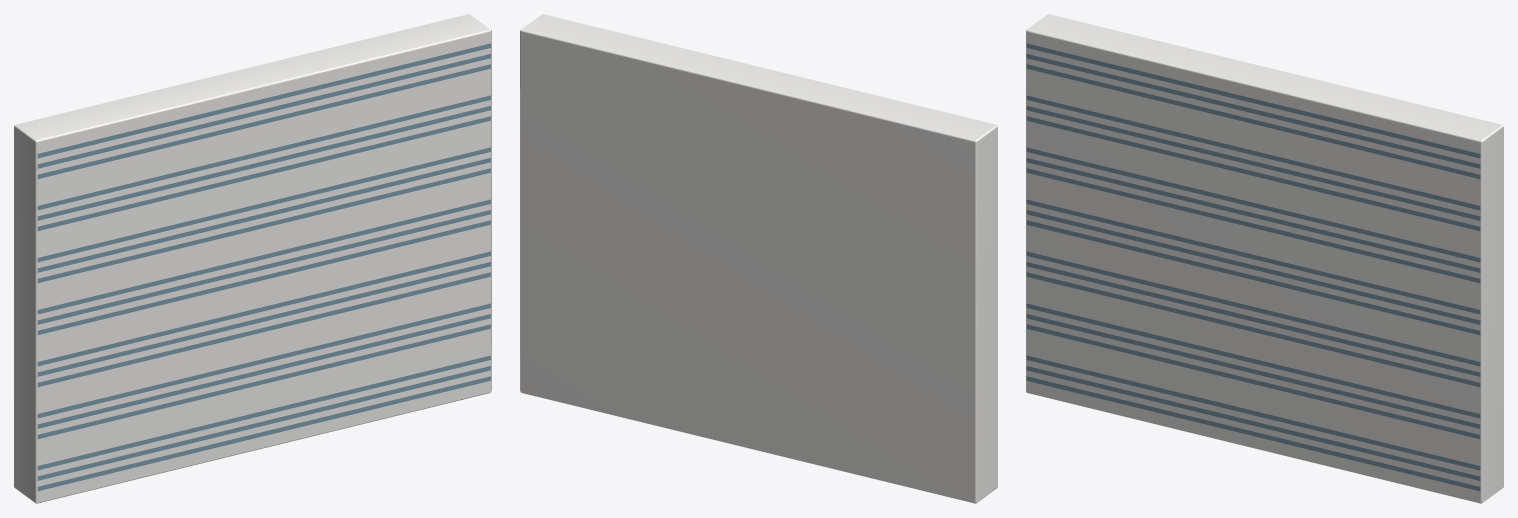
Rendered from Wall_17.glb.
3 renders of one model, left to right at view 1: azimuth 30°, elevation 25°; view 2: azimuth 150°, elevation 25°; view 3: azimuth 330°, elevation 25°, orthographic.
Parts seen in each view (by area): view 1: Wall_17; view 2: Wall_17; view 3: Wall_17.
Part boxes in pixels (x1,y1,x2,y2): Wall_17: (14, 14, 491, 503); Wall_17: (520, 14, 997, 503); Wall_17: (1026, 14, 1503, 503).
Bounding box in the file's own units: 4.6 × 3.5 × 0.4.
Materials: 1 (1 with a texture image).
